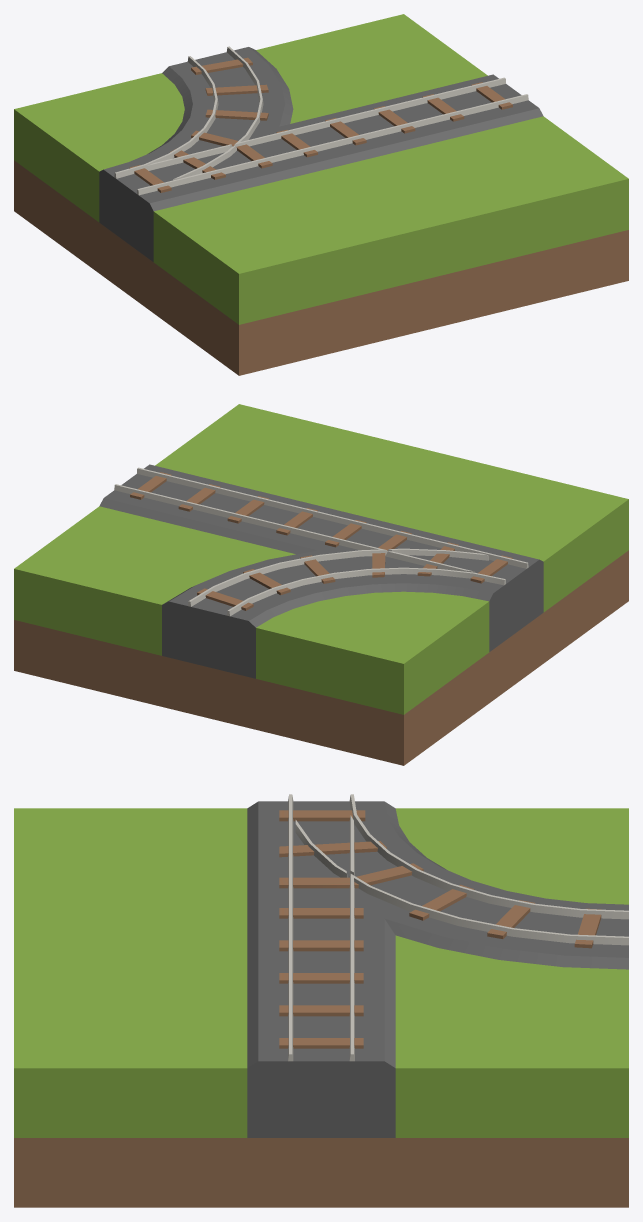
Rendered from rail_split2.fbx.
3 renders of one model, top to bottom at view 1: azimuth 30°, elevation 25°; view 2: azimuth 150°, elevation 25°; view 3: azimuth 270°, elevation 25°, orthographic. The views are drawn at different scales.
Parts seen in each view (by area): view 1: landscape-track-1-y-right.001; view 2: landscape-track-1-y-right.001; view 3: landscape-track-1-y-right.001.
Part boxes in pixels (<box>): landscape-track-1-y-right.001: <box>14,14,628,375</box>; landscape-track-1-y-right.001: <box>14,404,628,765</box>; landscape-track-1-y-right.001: <box>14,794,628,1207</box>.
Bounding box in the file's own units: 8 × 2.2 × 8.
1 material, 1 textured.
